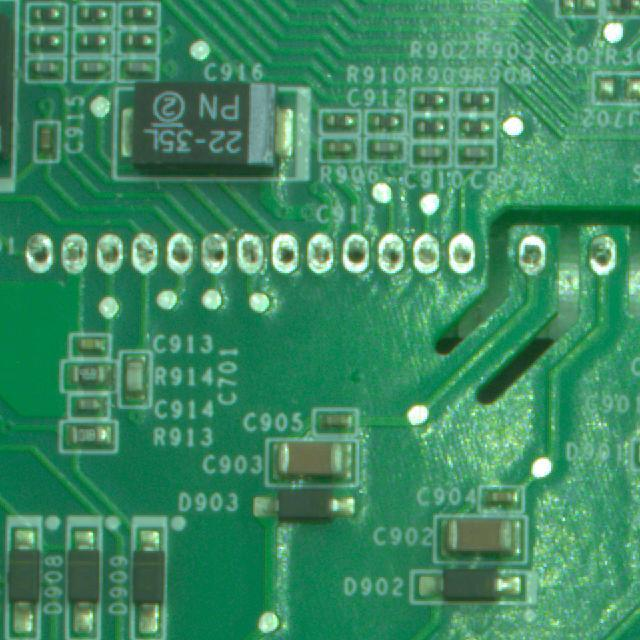Insufficient solder: (336, 229, 378, 291), (197, 231, 235, 295), (372, 231, 407, 295), (306, 233, 342, 295), (411, 233, 446, 293), (272, 228, 303, 295), (18, 230, 54, 285), (237, 234, 267, 299), (585, 233, 618, 291), (131, 231, 166, 285), (56, 231, 93, 280), (447, 234, 477, 294), (96, 228, 127, 286), (167, 230, 196, 290), (516, 234, 548, 280)
